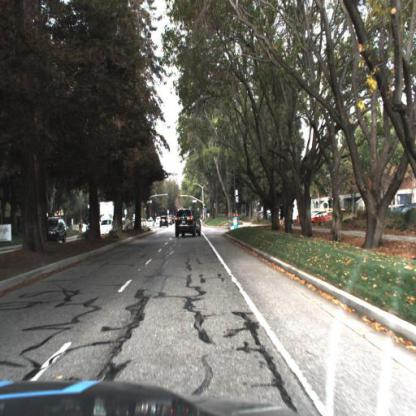car: (43, 213, 73, 246), (174, 206, 202, 240), (306, 210, 341, 228), (308, 211, 339, 226), (98, 217, 121, 237), (100, 218, 116, 241)
